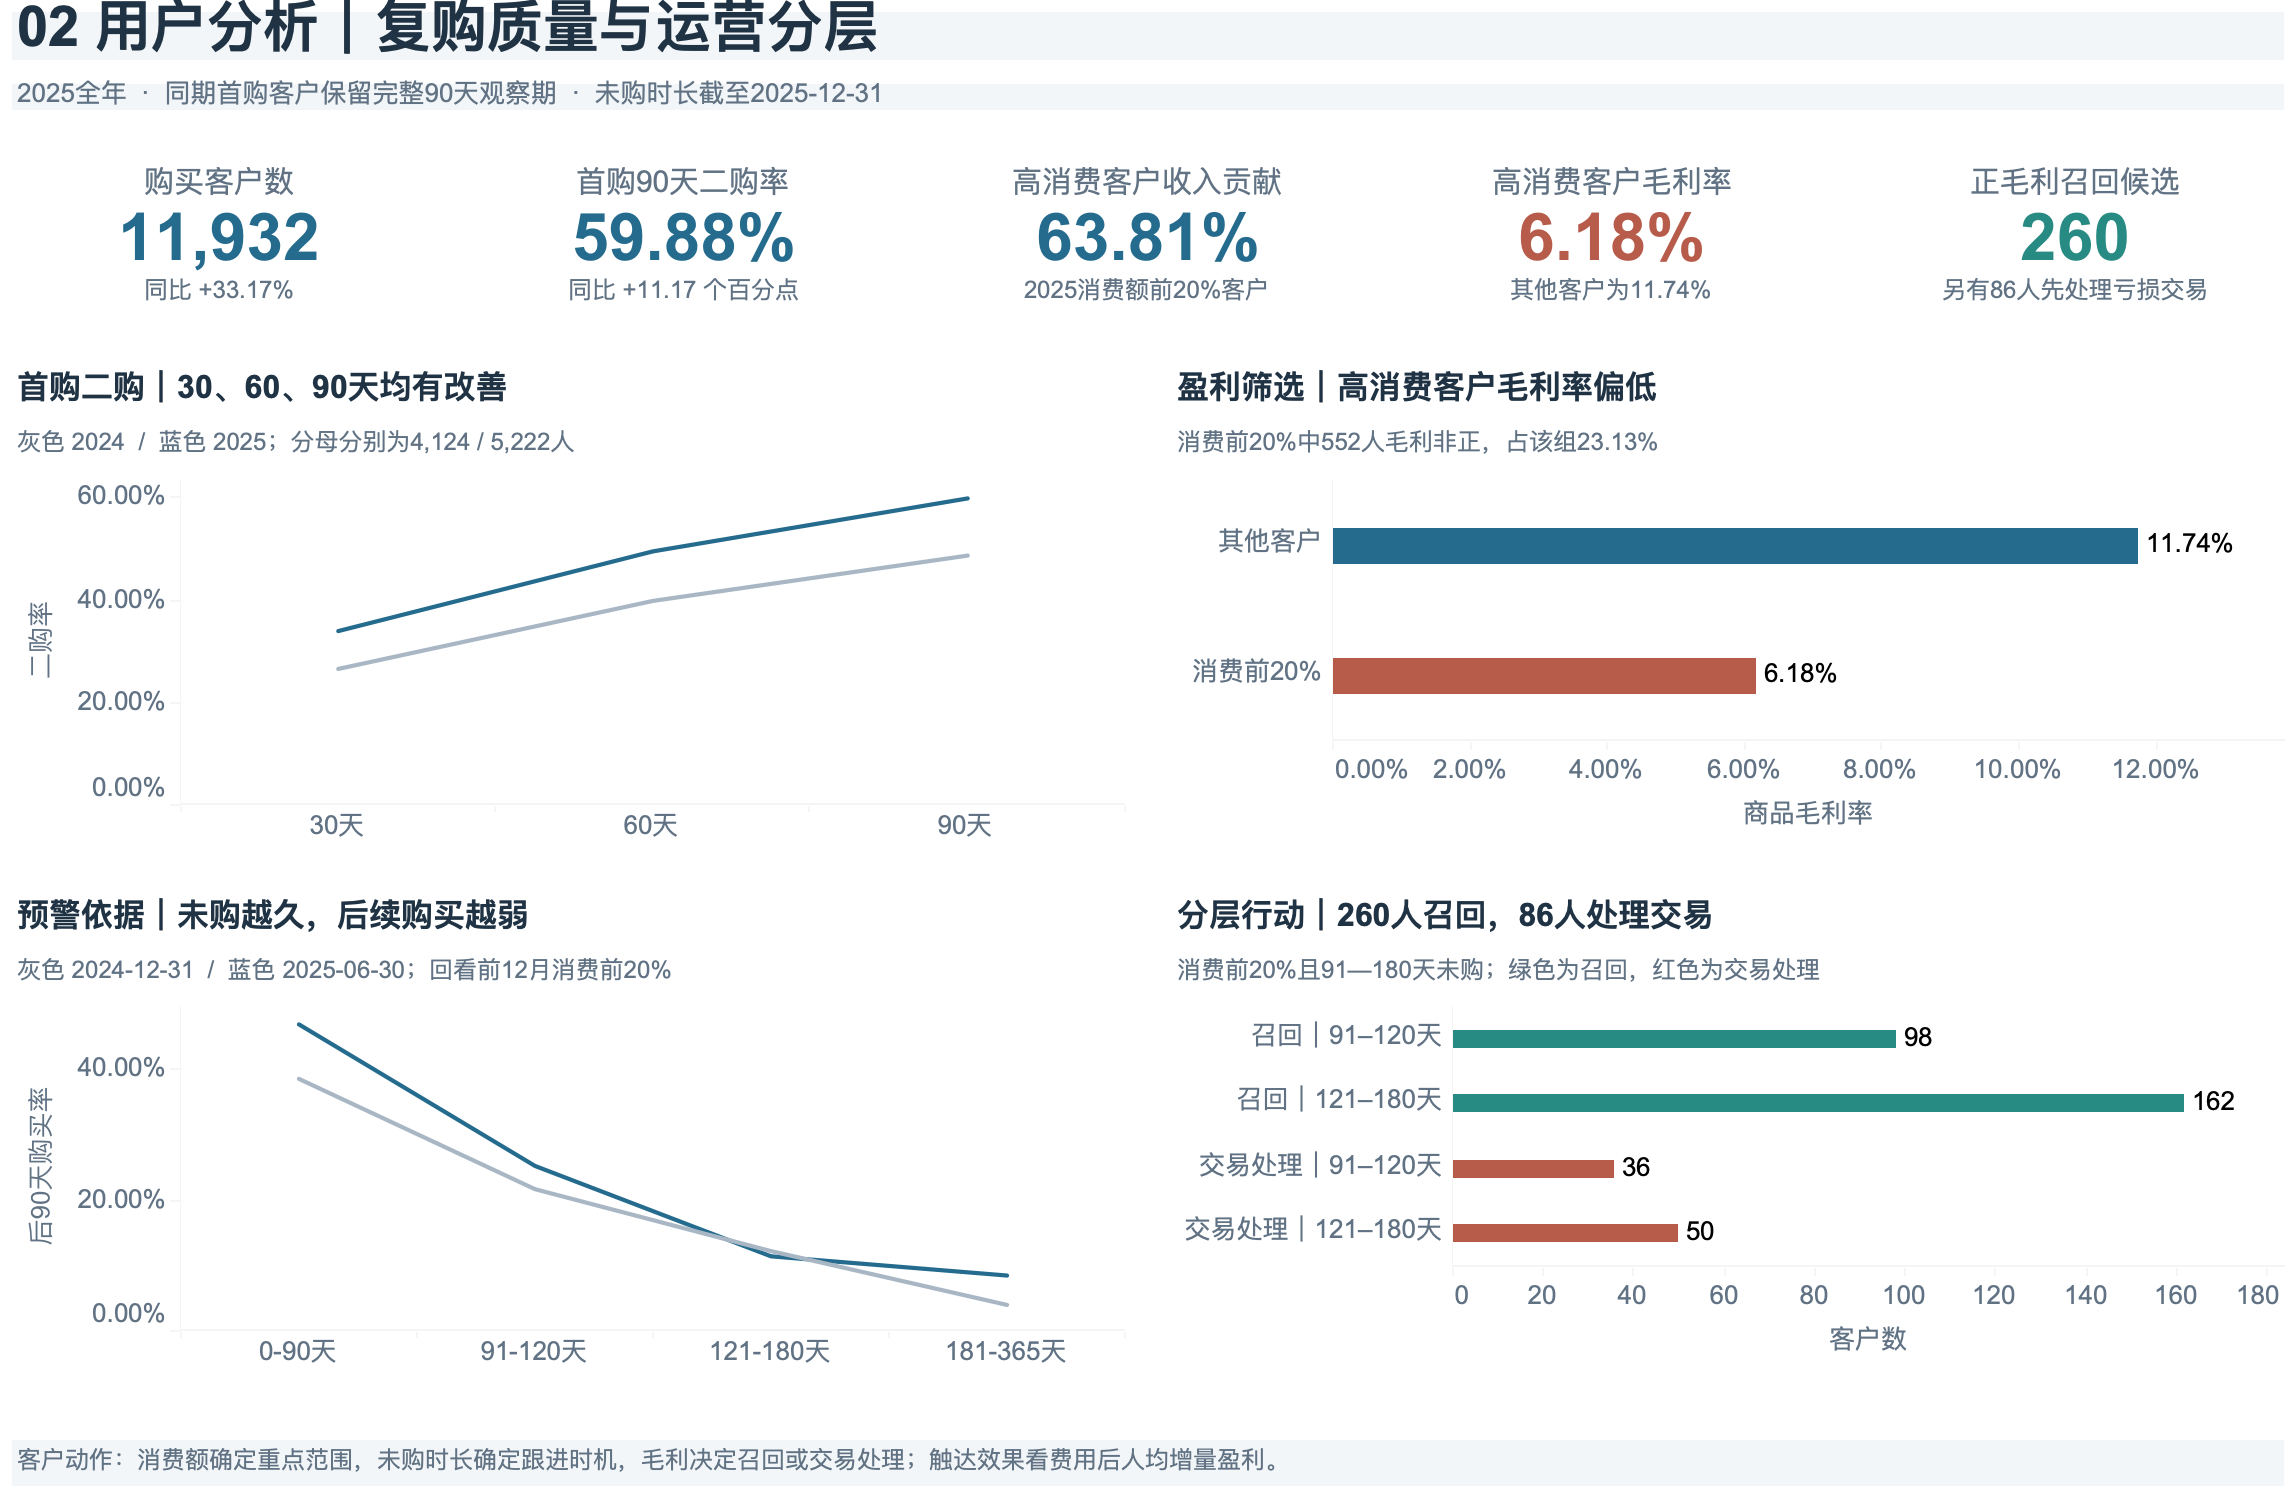

The dashboard page shown, as its layout file describes it:
{"tool":"tableau","page":{"name":"02 用户分析｜复购质量与运营分层","canvas":[1440,960],"ordinal":1},"visuals":[{"type":"text","box":[0,0,1440,45.5]},{"type":"text","box":[0,45.5,1440,32.4]},{"type":"worksheet","title":"客户KPI_customers","mark":"Text","box":[0,88.7,276.1,125.8]},{"type":"worksheet","title":"客户KPI_repeat90","mark":"Text","box":[291,88.7,276.1,125.8]},{"type":"worksheet","title":"客户KPI_share","mark":"Text","box":[581.9,88.7,276.1,125.8]},{"type":"worksheet","title":"客户KPI_margin","mark":"Text","box":[872.9,88.7,276.1,125.8]},{"type":"worksheet","title":"客户KPI_recall","mark":"Text","box":[1163.9,88.7,276.1,125.8]},{"type":"text","box":[0,232.5,712.6,39.6]},{"type":"text","box":[727.4,232.5,712.6,39.6]},{"type":"text","box":[0,272.1,712.6,27.6]},{"type":"text","box":[727.4,272.1,712.6,27.6]},{"type":"worksheet","title":"首购二购｜30、60、90天均有改善","mark":"Line","rows":["rate"],"cols":["window"],"box":[0,299.6,712.6,252.9]},{"type":"worksheet","title":"盈利筛选｜高消费客户毛利率偏低","mark":"Bar","rows":["group"],"cols":["margin"],"box":[727.4,299.6,712.6,252.9]},{"type":"text","box":[0,570.5,712.6,39.6]},{"type":"text","box":[727.4,570.5,712.6,39.6]},{"type":"text","box":[0,610,712.6,27.6]},{"type":"text","box":[727.4,610,712.6,27.6]},{"type":"worksheet","title":"预警依据｜未购越久，后续购买越弱","mark":"Line","rows":["rate"],"cols":["stage"],"box":[0,637.6,712.6,252.9]},{"type":"worksheet","title":"分层行动｜260人召回，86人处理交易","mark":"Bar","rows":["group"],"cols":["customers"],"box":[727.4,637.6,712.6,252.9]},{"type":"text","box":[0,915.6,1440,44.4]}]}

Visuals, with their boxes in screenshot pixels (x1, y1, x2, y2), scaled from the page's 1440x960 canvas onto the 2296x1498 screenshot:
text: bbox=[0, 0, 2295, 71]
text: bbox=[0, 71, 2295, 122]
"客户KPI_customers" worksheet (Text marks): bbox=[0, 138, 440, 335]
"客户KPI_repeat90" worksheet (Text marks): bbox=[464, 138, 904, 335]
"客户KPI_share" worksheet (Text marks): bbox=[928, 138, 1368, 335]
"客户KPI_margin" worksheet (Text marks): bbox=[1392, 138, 1832, 335]
"客户KPI_recall" worksheet (Text marks): bbox=[1856, 138, 2295, 335]
text: bbox=[0, 363, 1136, 425]
text: bbox=[1160, 363, 2295, 425]
text: bbox=[0, 425, 1136, 468]
text: bbox=[1160, 425, 2295, 468]
"首购二购｜30、60、90天均有改善" worksheet (Line marks): bbox=[0, 468, 1136, 862]
"盈利筛选｜高消费客户毛利率偏低" worksheet (Bar marks): bbox=[1160, 468, 2295, 862]
text: bbox=[0, 890, 1136, 952]
text: bbox=[1160, 890, 2295, 952]
text: bbox=[0, 952, 1136, 995]
text: bbox=[1160, 952, 2295, 995]
"预警依据｜未购越久，后续购买越弱" worksheet (Line marks): bbox=[0, 995, 1136, 1390]
"分层行动｜260人召回，86人处理交易" worksheet (Bar marks): bbox=[1160, 995, 2295, 1390]
text: bbox=[0, 1429, 2295, 1497]
